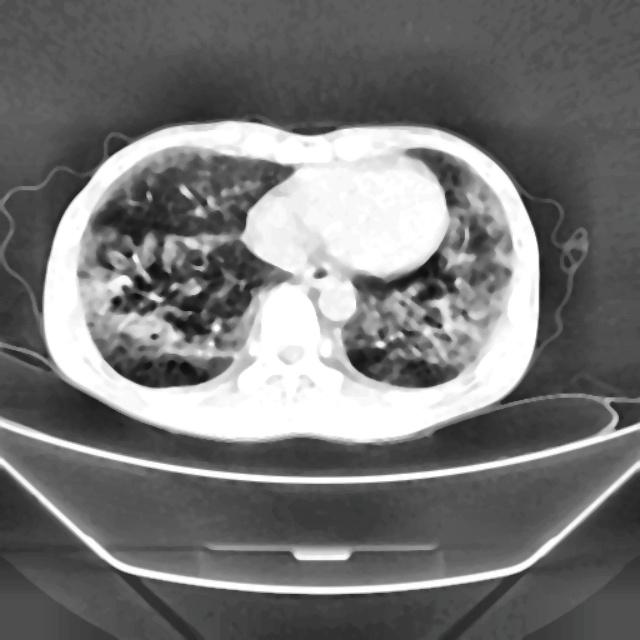covid: (41, 117, 541, 445)
